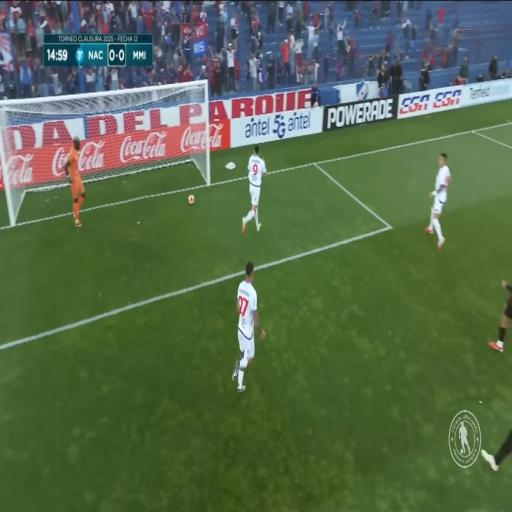Ball: (187, 192, 195, 205)
Player: (234, 263, 258, 396), (428, 154, 449, 241), (66, 137, 85, 228), (247, 144, 261, 238)
